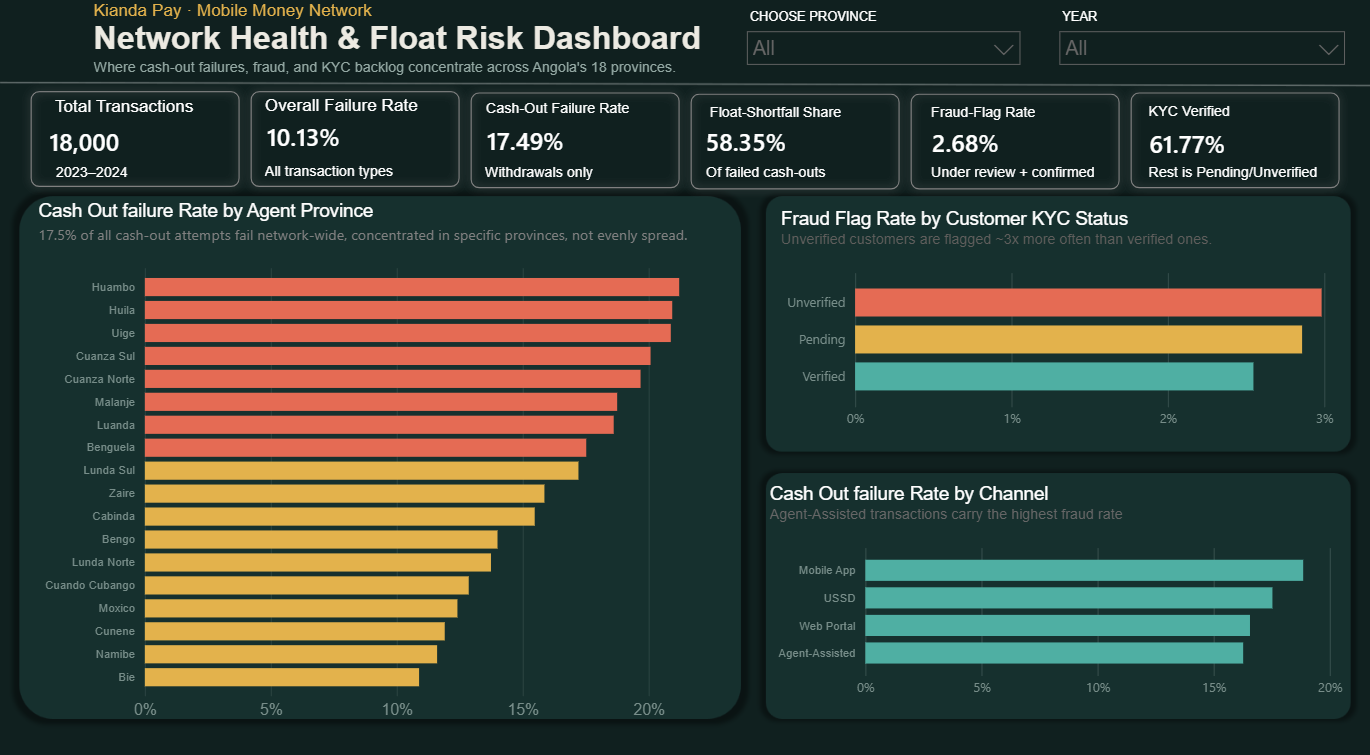

Layout of this report page (visuals, bound fields, positions):
{"tool":"powerbi","page":{"name":"Dashboard","canvas":[1280,720],"ordinal":0},"visuals":[{"type":"group","id":"g1","title":"Group 1","box":[27.8,80.1,1233.4,118],"z":0},{"type":"shape","box":[27.8,80.6,210.4,105.1],"z":0,"group":"g1"},{"type":"barChart","fields":{"Y":["Metrics.Cash Out faluere Rate"],"Category":["dAgent.Agent_Province"]},"box":[39.3,197.7,639.5,464],"z":0,"group":"g2"},{"type":"group","id":"g2","title":"Group 3","box":[20,0,1243.4,662.2],"z":1000},{"type":"shape","box":[232.4,80.1,210.4,105.1],"z":1000,"group":"g1"},{"type":"barChart","fields":{"Y":["Metrics.Fraud Flag Rate"],"Category":["dCustumer.Customer_KYC_Status"]},"box":[727.7,197.7,534.9,220.9],"z":1000,"group":"g2"},{"type":"slicer","title":"CHOOSE PROVINCE ","fields":{"Values":["dAgent.Agent_Province"]},"box":[687.5,8.2,274.4,57.6],"z":2000},{"type":"shape","box":[437.1,81,210.4,105.1],"z":2000,"group":"g1"},{"type":"barChart","fields":{"Y":["Metrics.Cash Out faluere Rate"],"Category":["dCustumer.Channel"]},"box":[730,453.5,532,208.7],"z":2000,"group":"g2"},{"type":"slicer","fields":{"Values":["fTransation.Year"]},"box":[977,11,286.8,45.3],"z":3000},{"type":"shape","box":[641.7,82,210.4,105.1],"z":3000,"group":"g1"},{"type":"shape","box":[846.3,82.5,210.4,105.1],"z":4000,"group":"g1"},{"type":"group","id":"g3","title":"Group 2","box":[20,87.9,1243.4,146],"z":4000,"group":"g2"},{"type":"cardVisual","fields":{"Data":["Metrics.Totat de Transacoes"]},"box":[20,99.1,185.9,68.6],"z":4000,"group":"g3"},{"type":"textbox","box":[84.5,0,650.1,111.3],"z":5000,"group":"g2"},{"type":"shape","box":[1051,81.5,210.4,105.1],"z":5000,"group":"g1"},{"type":"textbox","box":[49,88.8,173.5,44.2],"z":5000,"group":"g3"},{"type":"cardVisual","fields":{"Data":["Metrics.Overal Failure Rate"]},"box":[222.2,94.1,151.1,72.4],"z":6000,"group":"g3"},{"type":"textbox","box":[244.3,87.9,166.2,34.9],"z":7000,"group":"g3"},{"type":"textbox","box":[50.2,149.1,125.5,34.9],"z":8000,"group":"g3"},{"type":"textbox","box":[244.3,147.8,195.2,86.1],"z":9000,"group":"g3"},{"type":"cardVisual","fields":{"Data":["Metrics.Cash Out faluere Rate"]},"box":[426.7,102.9,158,61.2],"z":10000,"group":"g3"},{"type":"textbox","box":[450.1,90.2,196.4,34.9],"z":11000,"group":"g3"},{"type":"textbox","box":[448.8,149.1,196.4,34.9],"z":12000,"group":"g3"},{"type":"cardVisual","fields":{"Data":["Metrics.Float Shortfall Share"]},"box":[630.1,101.6,138.3,64.9],"z":13000,"group":"g3"},{"type":"textbox","box":[658.4,93.2,197,36.7],"z":14000,"group":"g3"},{"type":"textbox","box":[654.5,149.1,196.4,34.9],"z":15000,"group":"g3"},{"type":"cardVisual","fields":{"Data":["Metrics.Fraud Flag Rate"]},"box":[840.4,104.1,130.2,62.4],"z":16000,"group":"g3"},{"type":"textbox","box":[863.7,94.1,196.4,36.2],"z":17000,"group":"g3"},{"type":"textbox","box":[863.7,149.1,196.4,34.9],"z":18000,"group":"g3"},{"type":"cardVisual","fields":{"Data":["Metrics.% KYC"]},"box":[1043.8,105.4,180.1,62.4],"z":19000,"group":"g3"},{"type":"textbox","box":[1067,92.9,196.4,34.9],"z":20000,"group":"g3"},{"type":"textbox","box":[1067,149.1,196.4,34.9],"z":21000,"group":"g3"}]}

Visuals, with their boxes in screenshot pixels (x1, y1, x2, y2), scaled from the page's 1280x720 canvas onto the 1370x755 screenshot:
"Group 1" group: <region>30, 84, 1350, 208</region>
shape: <region>30, 85, 255, 195</region>
barChart - Metrics.Cash Out faluere Rate x dAgent.Agent_Province: <region>42, 207, 727, 694</region>
"Group 3" group: <region>21, 0, 1352, 694</region>
shape: <region>249, 84, 474, 194</region>
barChart - Metrics.Fraud Flag Rate x dCustumer.Customer_KYC_Status: <region>779, 207, 1351, 439</region>
"CHOOSE PROVINCE " slicer: <region>736, 9, 1030, 69</region>
shape: <region>468, 85, 693, 195</region>
barChart - Metrics.Cash Out faluere Rate x dCustumer.Channel: <region>781, 476, 1351, 694</region>
slicer - fTransation.Year: <region>1046, 12, 1353, 59</region>
shape: <region>687, 86, 912, 196</region>
shape: <region>906, 87, 1131, 197</region>
"Group 2" group: <region>21, 92, 1352, 245</region>
cardVisual - Metrics.Totat de Transacoes: <region>21, 104, 220, 176</region>
textbox: <region>90, 0, 786, 117</region>
shape: <region>1125, 85, 1350, 196</region>
textbox: <region>52, 93, 238, 139</region>
cardVisual - Metrics.Overal Failure Rate: <region>238, 99, 400, 175</region>
textbox: <region>261, 92, 439, 129</region>
textbox: <region>54, 156, 188, 193</region>
textbox: <region>261, 155, 470, 245</region>
cardVisual - Metrics.Cash Out faluere Rate: <region>457, 108, 626, 172</region>
textbox: <region>482, 95, 692, 131</region>
textbox: <region>480, 156, 691, 193</region>
cardVisual - Metrics.Float Shortfall Share: <region>674, 107, 822, 175</region>
textbox: <region>705, 98, 916, 136</region>
textbox: <region>701, 156, 911, 193</region>
cardVisual - Metrics.Fraud Flag Rate: <region>899, 109, 1039, 175</region>
textbox: <region>924, 99, 1135, 137</region>
textbox: <region>924, 156, 1135, 193</region>
cardVisual - Metrics.% KYC: <region>1117, 111, 1310, 176</region>
textbox: <region>1142, 97, 1352, 134</region>
textbox: <region>1142, 156, 1352, 193</region>
